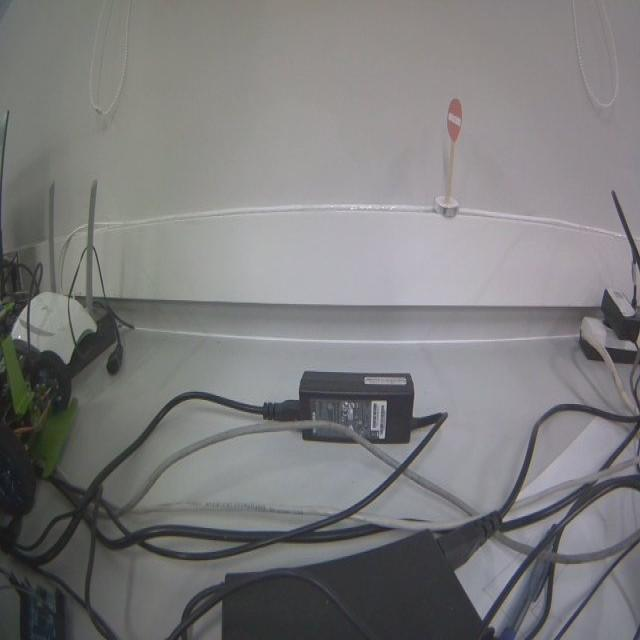Dilarang Masuk: (446, 98, 463, 142)
